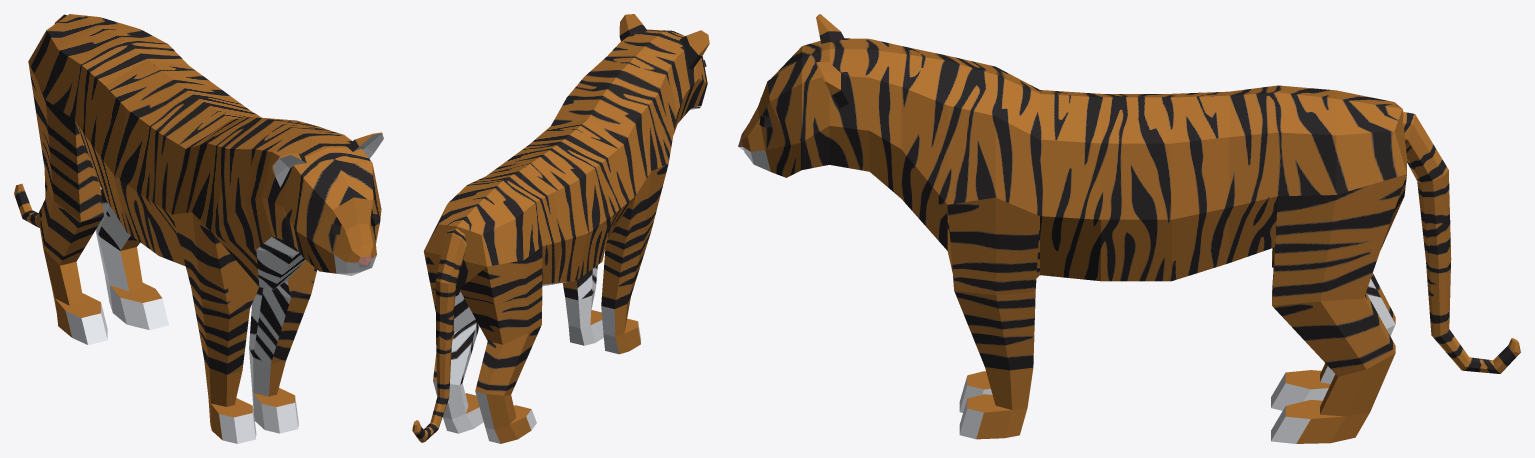
3 views of the same model, side by side, from view 1: azimuth 30°, elevation 25°; view 2: azimuth 150°, elevation 25°; view 3: azimuth 270°, elevation 25° (orthographic). The views are drawn at different scales.
Visible parts, largest first — view 1: Geo_BengalTiger; view 2: Geo_BengalTiger; view 3: Geo_BengalTiger.
Boxes of the visible parts, <box> form: Geo_BengalTiger: <box>14,14,383,443</box>; Geo_BengalTiger: <box>412,14,709,443</box>; Geo_BengalTiger: <box>738,14,1520,443</box>.
Size of the model in its own units: 45.11 by 123 by 230.
1 material, 1 textured.
